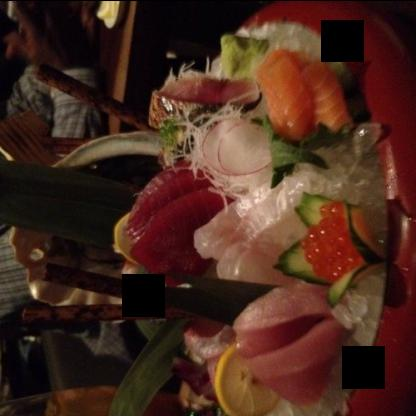salmon: (249, 51, 308, 147), (299, 49, 352, 134)
